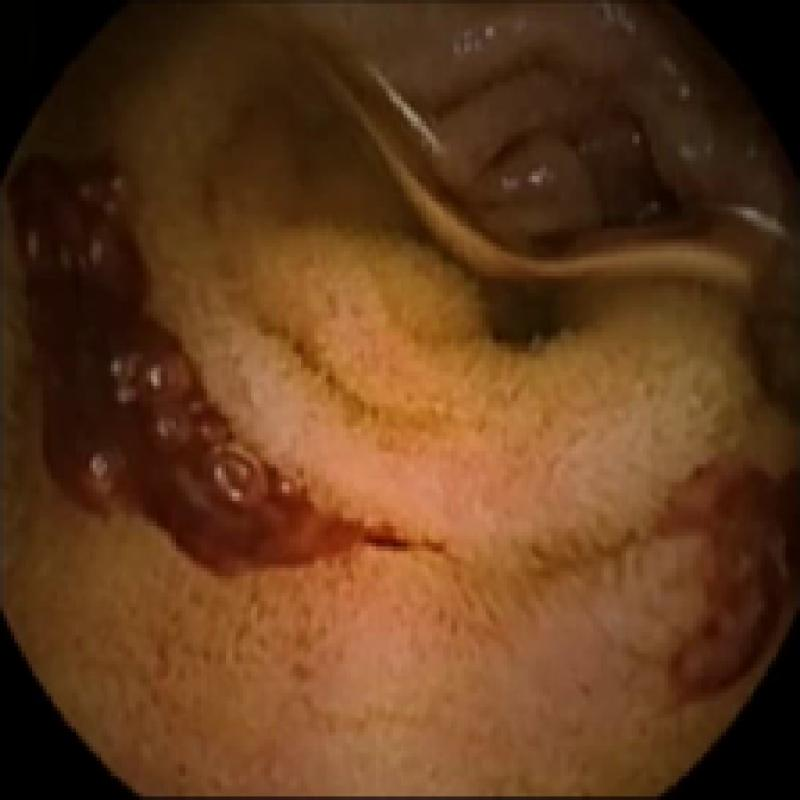bleeding: (3, 154, 393, 564), (649, 472, 800, 704)
